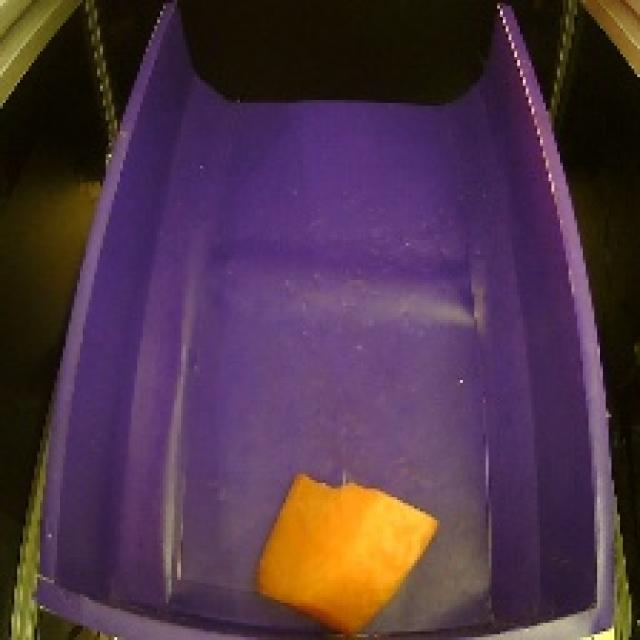carrots: (244, 460, 445, 636)
